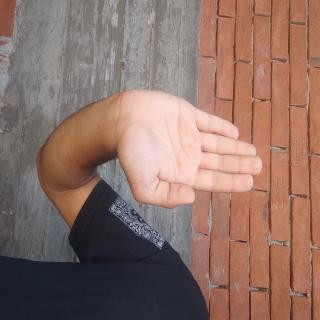SEEN: (63, 77, 157, 280)
